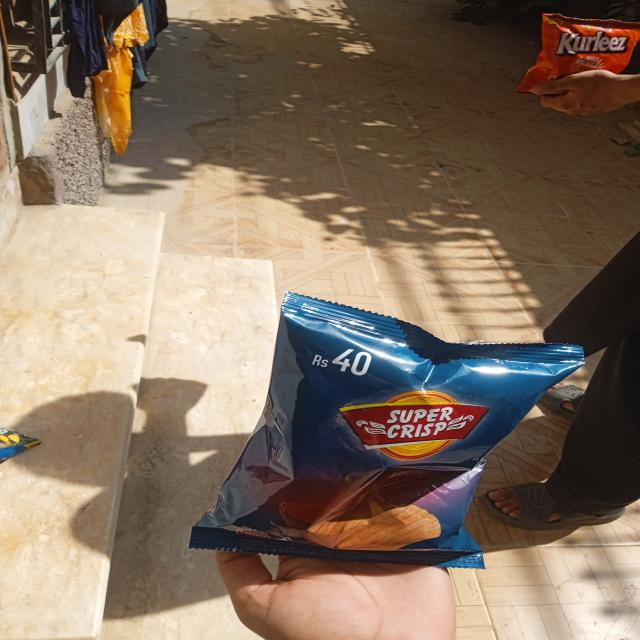Plastic: (180, 288, 595, 582), (533, 3, 640, 77)
